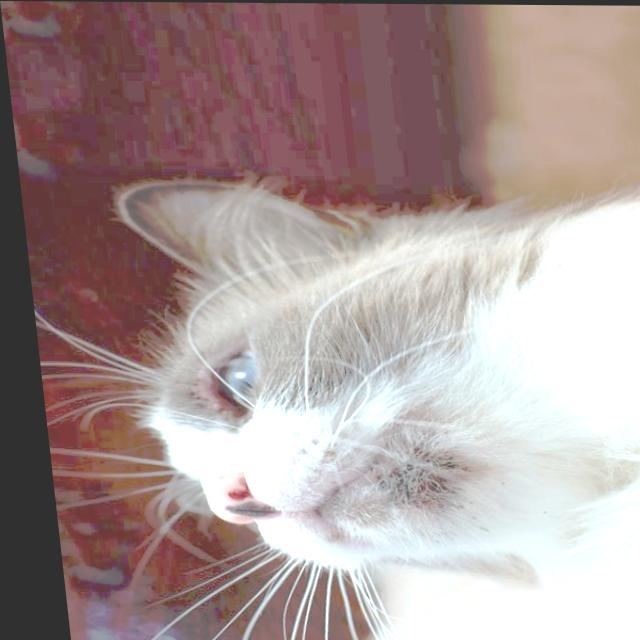acne: (375, 425, 465, 512)
